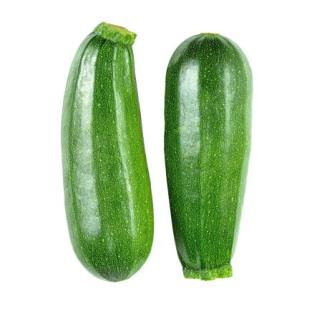Zucchini: (62, 23, 153, 281), (165, 34, 251, 279)
